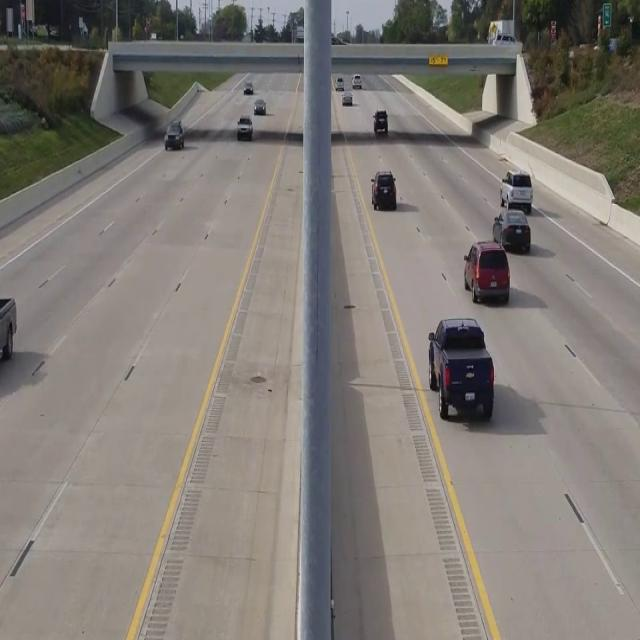car: (463, 240, 510, 304), (492, 208, 531, 254), (371, 170, 396, 210), (164, 118, 183, 150), (237, 115, 252, 140), (373, 109, 388, 134)
